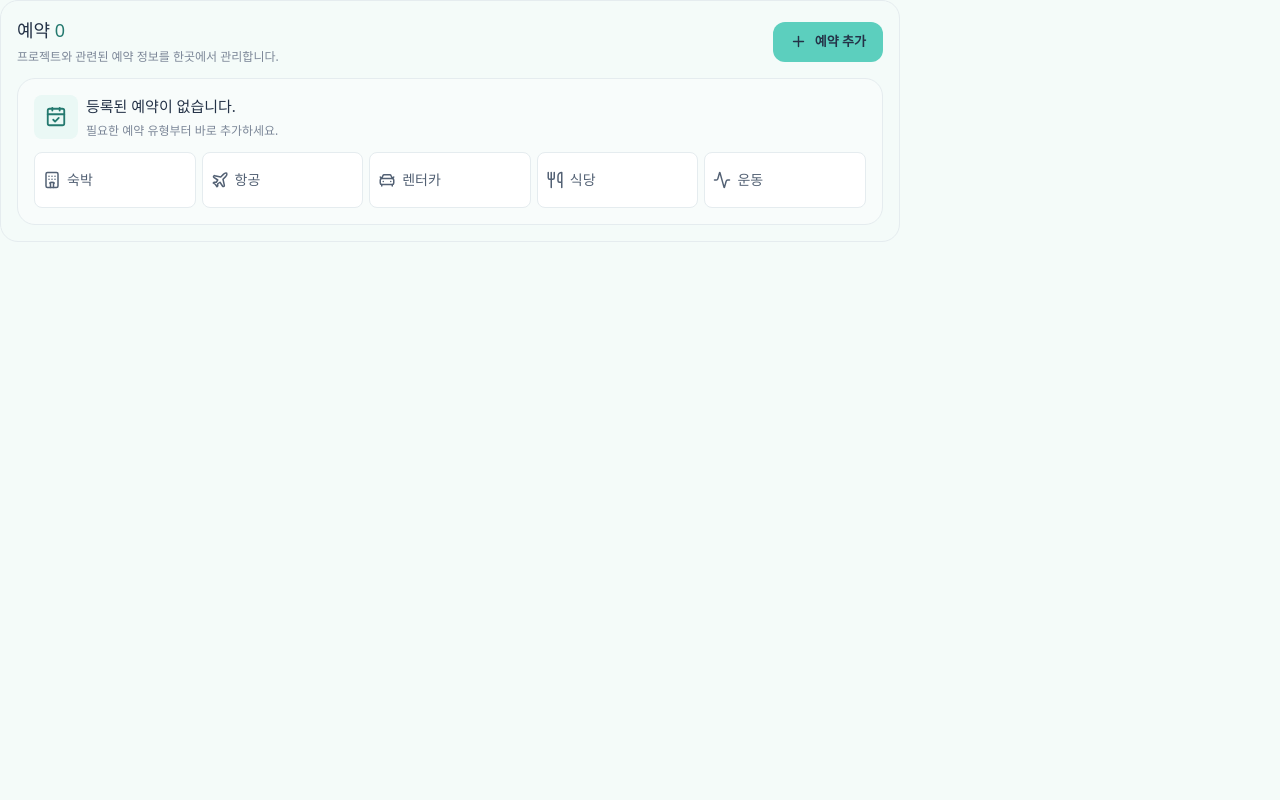
Test: project reservations › adjusts only an empty or invalid end date when the start date changes
The width and height of the screenshot is (1280, 800).
Click the button with aria-label "항공 예약 추가". click: {"x": 282, "y": 180}
box: [202,152,363,208]
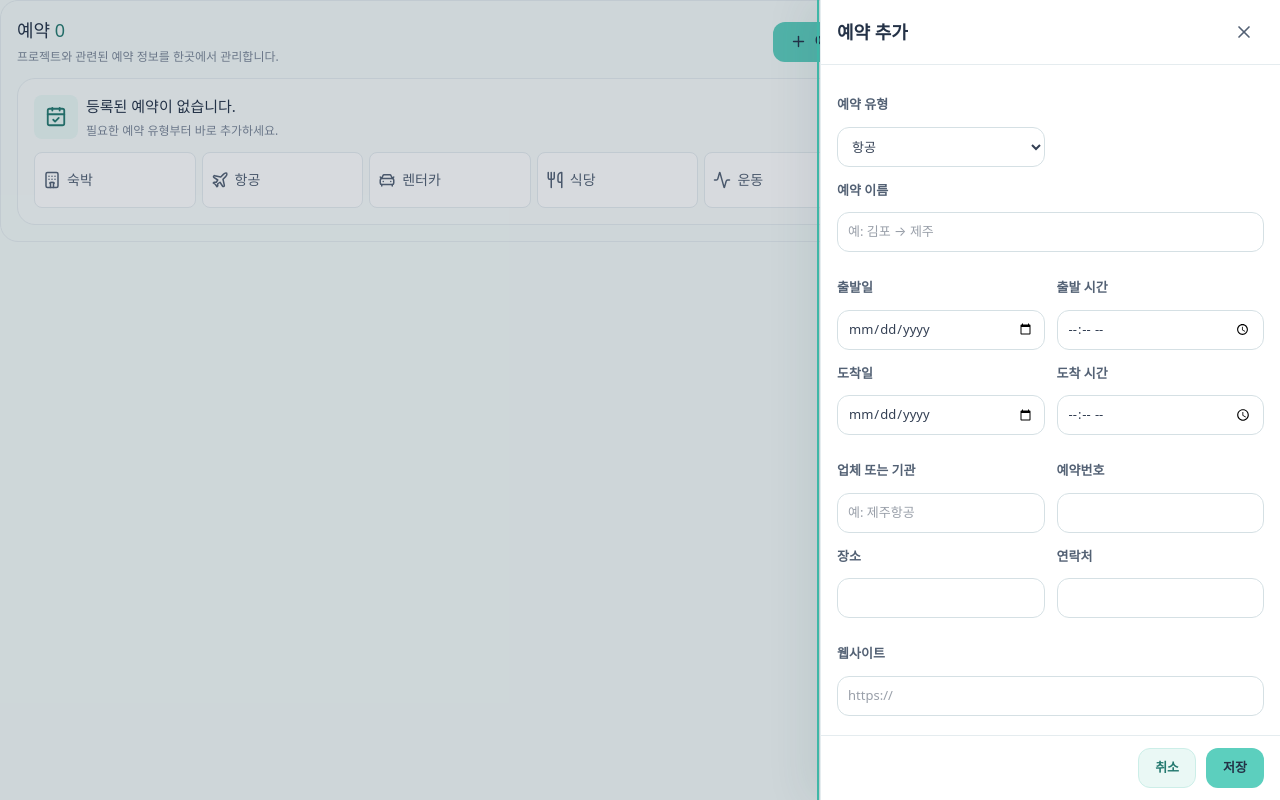
Type "2026-08-04" into the date field labelled "출발일". click: {"x": 941, "y": 330}
box: [837,310,1044,350]
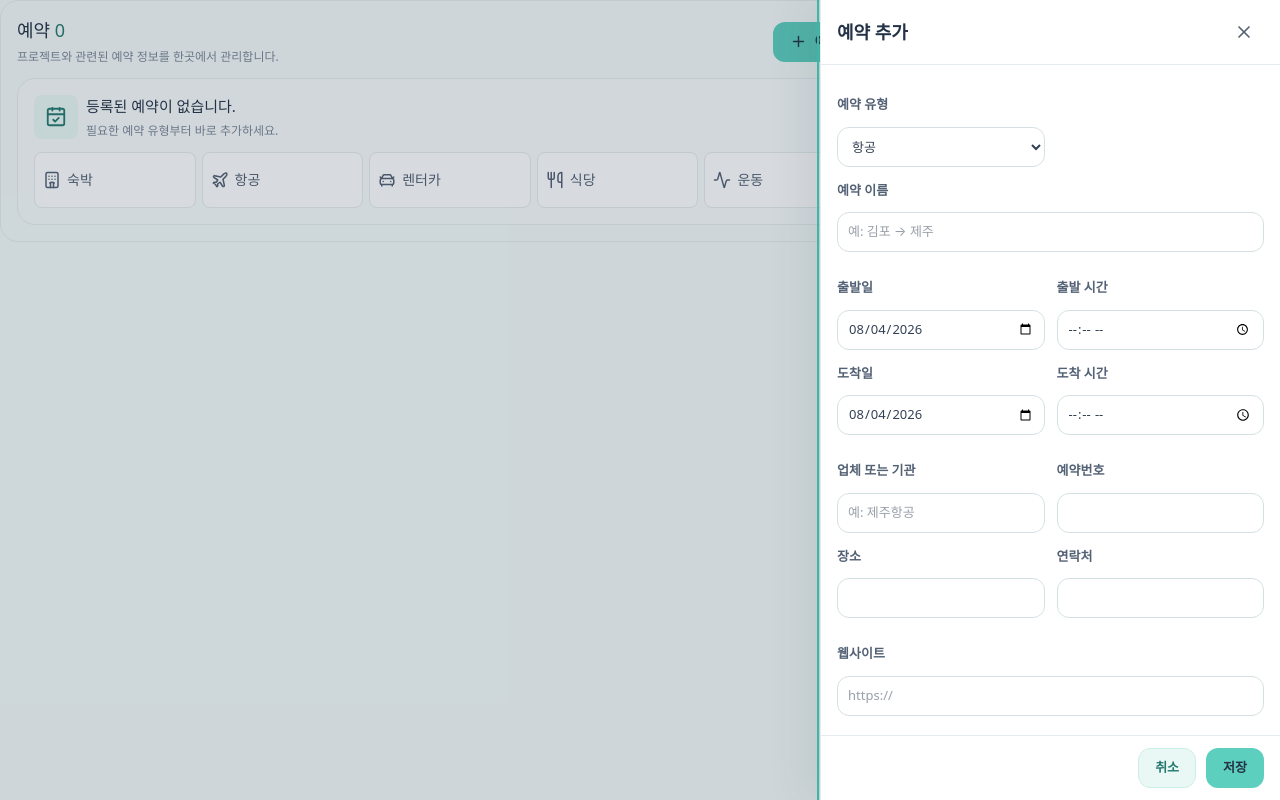
Type "2026-08-06" into the date field labelled "도착일". click: {"x": 941, "y": 415}
box: [837,395,1044,435]
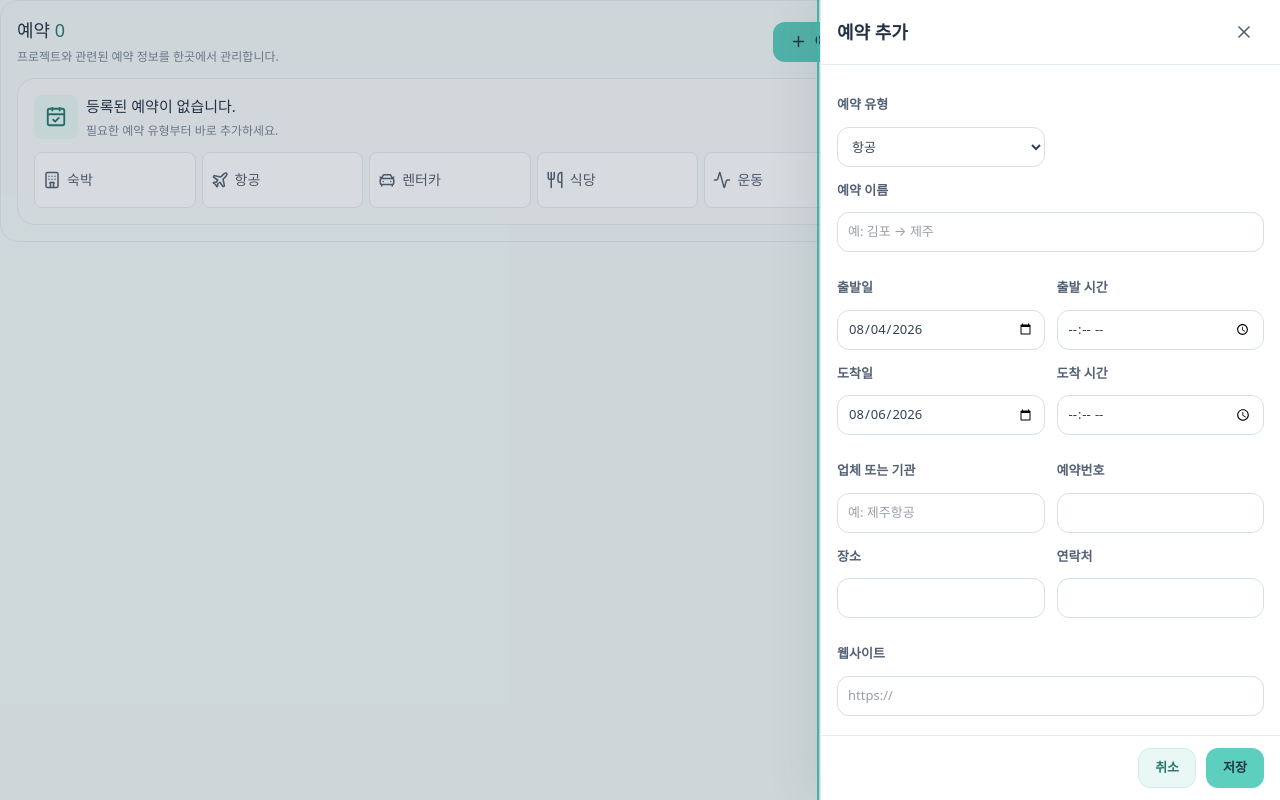
Type "2026-08-05" into the date field labelled "출발일". click: {"x": 941, "y": 330}
box: [837,310,1044,350]
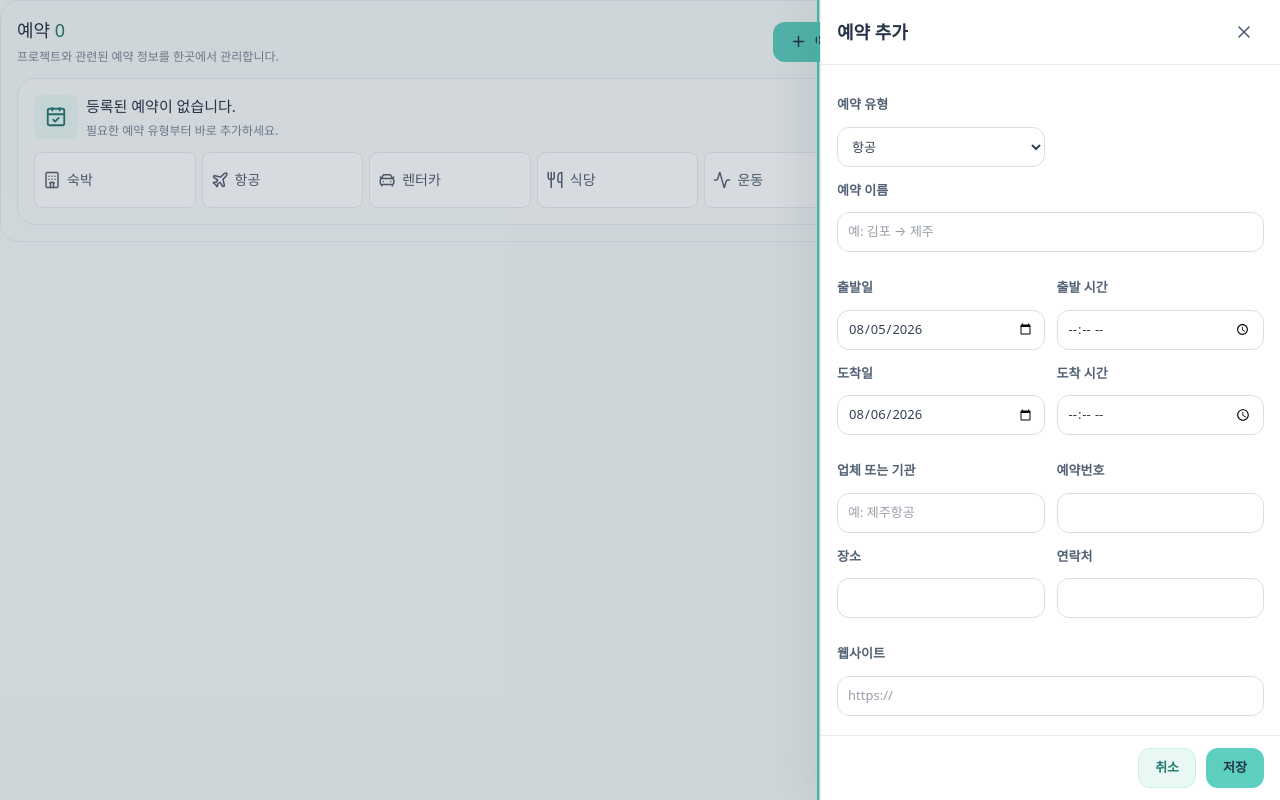
Type "2026-08-07" into the date field labelled "출발일". click: {"x": 941, "y": 330}
box: [837,310,1044,350]
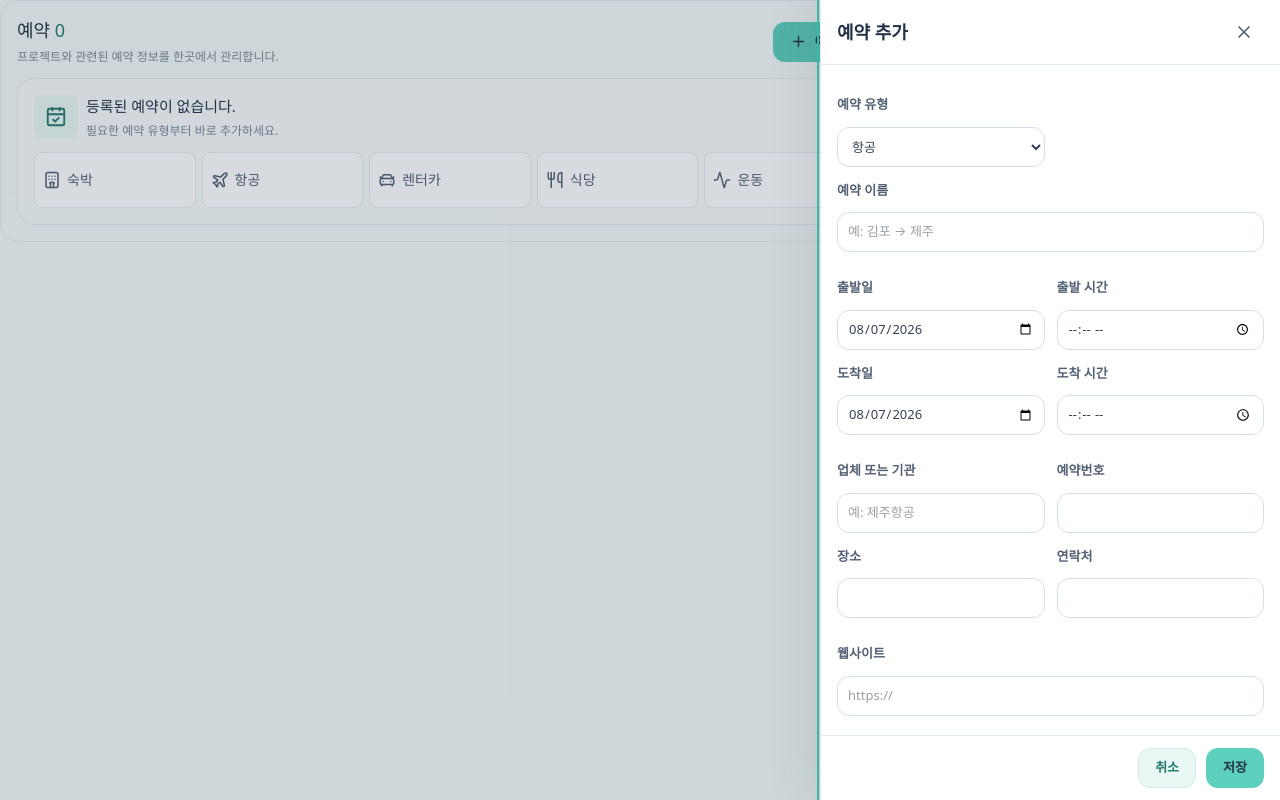
Now the date field labelled "도착일" holds "2026-08-07", box [837,395,1044,435]
